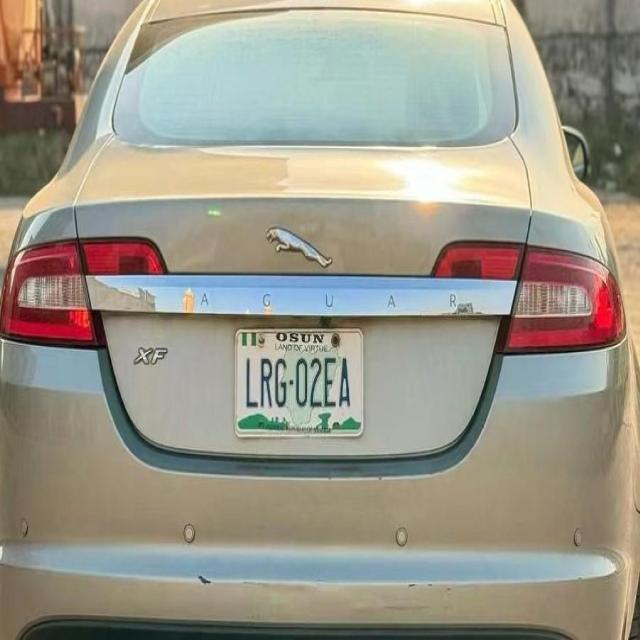Nigerian License Plate - vdataset benjamin-daria: (234, 319, 366, 442)
